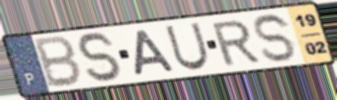A: (133, 28, 178, 77)
B: (33, 34, 84, 90)
R: (209, 18, 262, 68)
S: (74, 31, 126, 84), (253, 12, 299, 65)
U: (163, 21, 212, 73)
